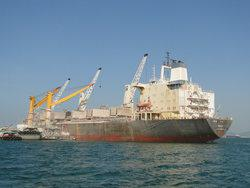Cargoship: (26, 49, 234, 144)
